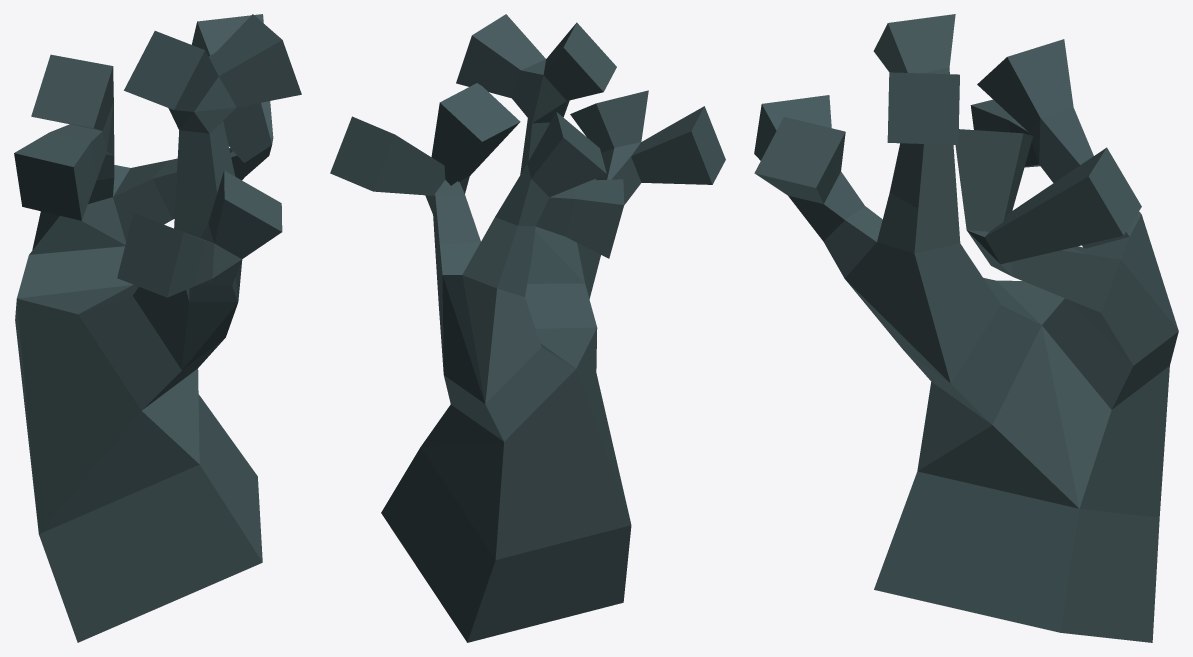
Rendered from LPSciFi_AlienPlantJ1.fbx.
3 views of the same model, side by side, from view 1: azimuth 30°, elevation 25°; view 2: azimuth 150°, elevation 25°; view 3: azimuth 270°, elevation 25° (orthographic). The views are drawn at different scales.
Parts seen in each view (by area): view 1: AlienPlantJ1; view 2: AlienPlantJ1; view 3: AlienPlantJ1.
Part boxes in pixels (<box>): AlienPlantJ1: <box>14,14,301,642</box>; AlienPlantJ1: <box>330,14,725,642</box>; AlienPlantJ1: <box>754,14,1178,642</box>.
Size of the model in its own units: 153 by 309 by 191.
